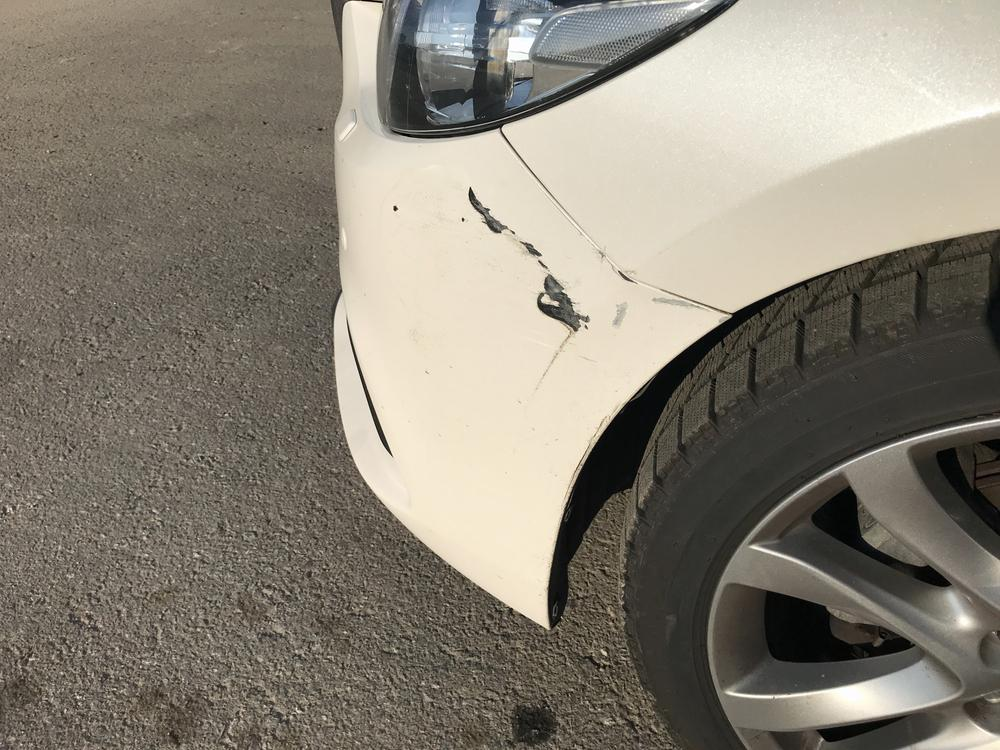scratch: (465, 183, 707, 390)
